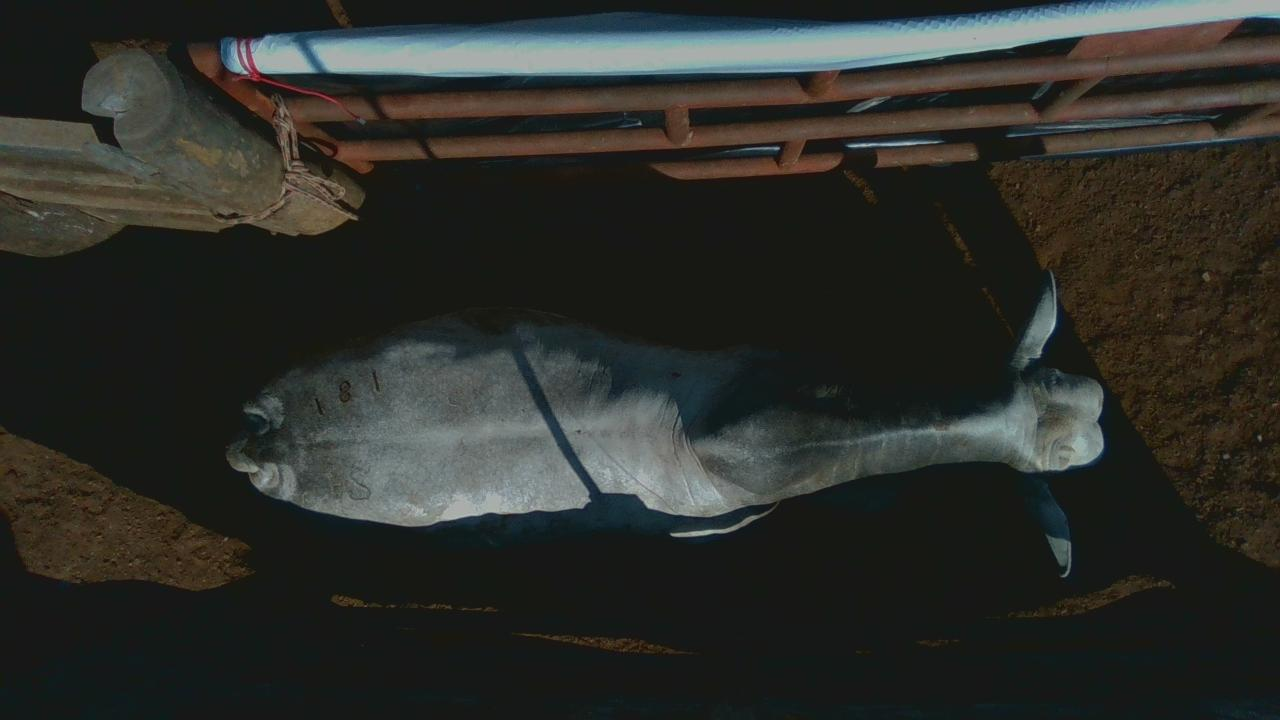cattle: (224, 266, 1106, 575)
